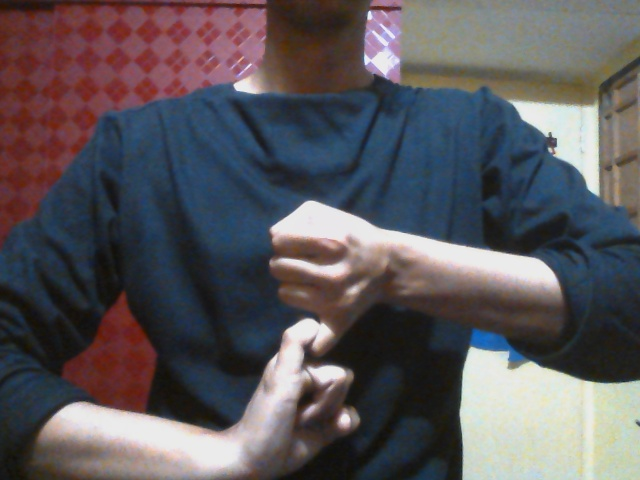S: (241, 196, 399, 479)
